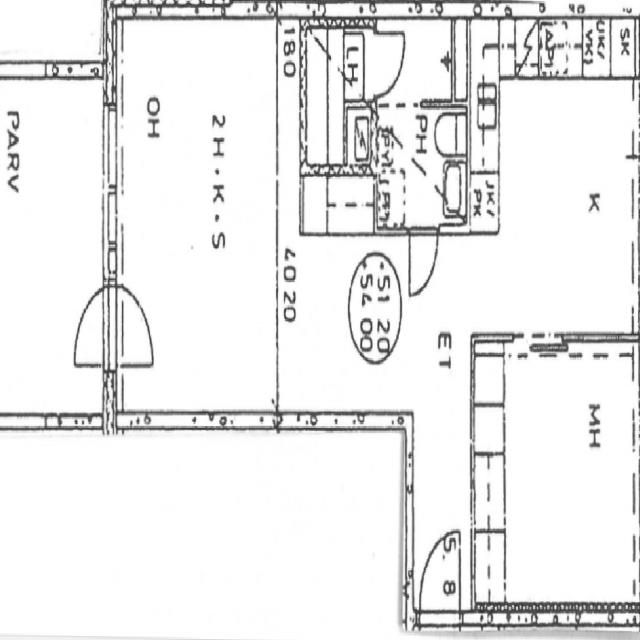door: (103, 287, 155, 366), (64, 287, 116, 366), (420, 530, 460, 626), (373, 33, 408, 98), (409, 228, 437, 292)
